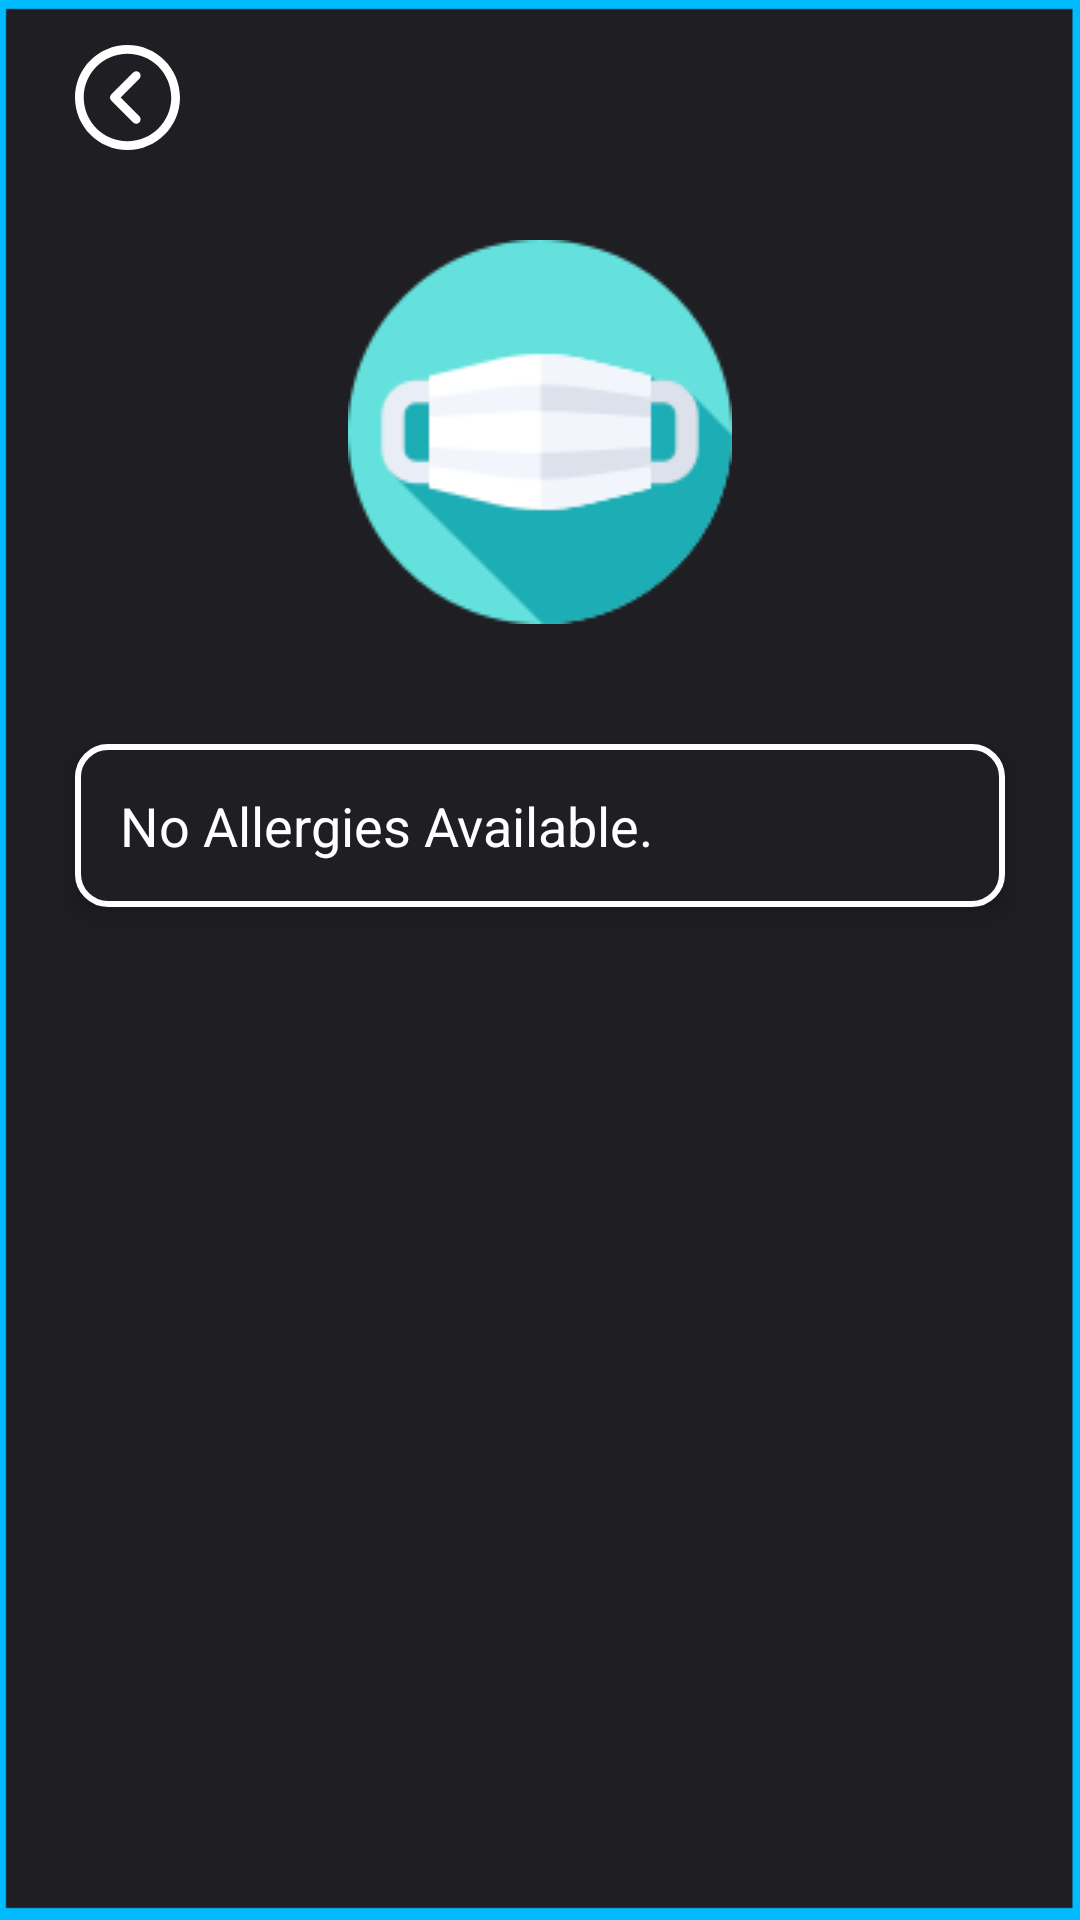

Icon bounding boxes for this 1080x1920 phone screenshot, format (left=x1, top=y1, right=x2, bottom=y2):
previous: (left=75, top=45, right=180, bottom=150)
